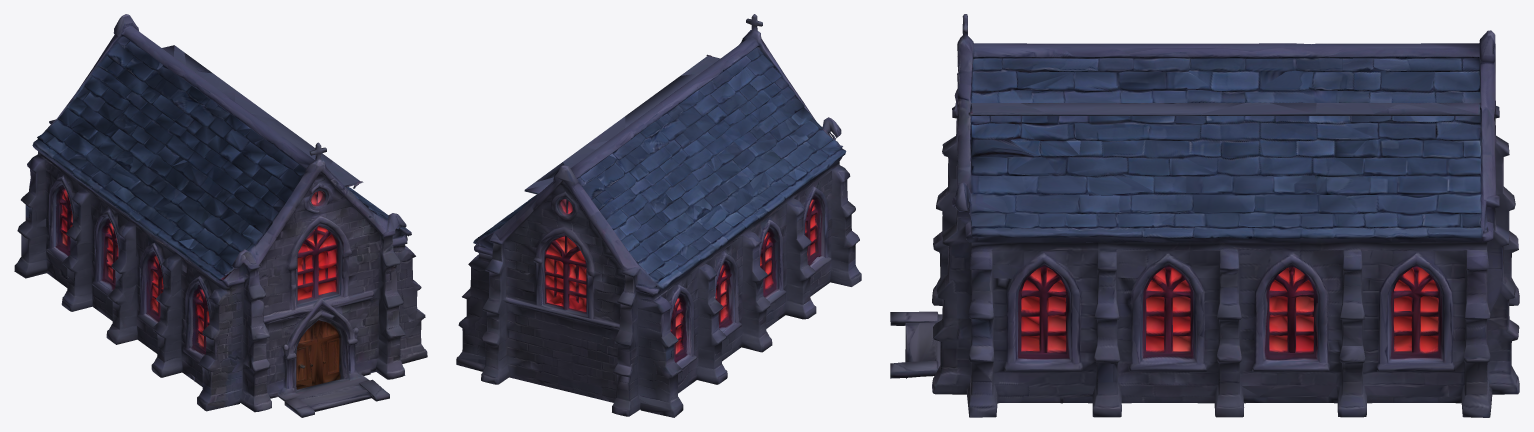
The model's file is bld_goth_chapel.fbx.
3 renders of one model, left to right at view 1: azimuth 30°, elevation 25°; view 2: azimuth 150°, elevation 25°; view 3: azimuth 270°, elevation 25°, orthographic. The views are drawn at different scales.
Parts seen in each view (by area): view 1: bld_goth_chapel_LOD0; view 2: bld_goth_chapel_LOD0; view 3: bld_goth_chapel_LOD0.
Boxes of the visible parts, x1,y1,x2,y2 form: bld_goth_chapel_LOD0: (14, 14, 427, 417); bld_goth_chapel_LOD0: (456, 14, 861, 417); bld_goth_chapel_LOD0: (890, 14, 1519, 417).
Size of what is drawn, in the model's own units: 0.5444 by 0.5776 by 0.9802.
